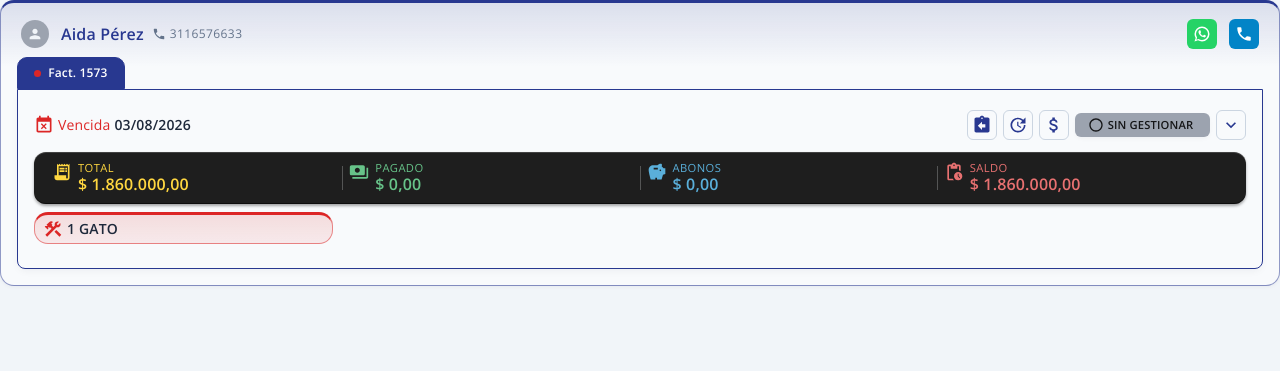
Test case: ClienteSeguimientoCard — lo que muestra › no muestra los equipos que todavía están en plazo
The image size is (1280, 371).
Click the button named "Mostrar factura": (1231,125) [1216, 110, 1246, 140]
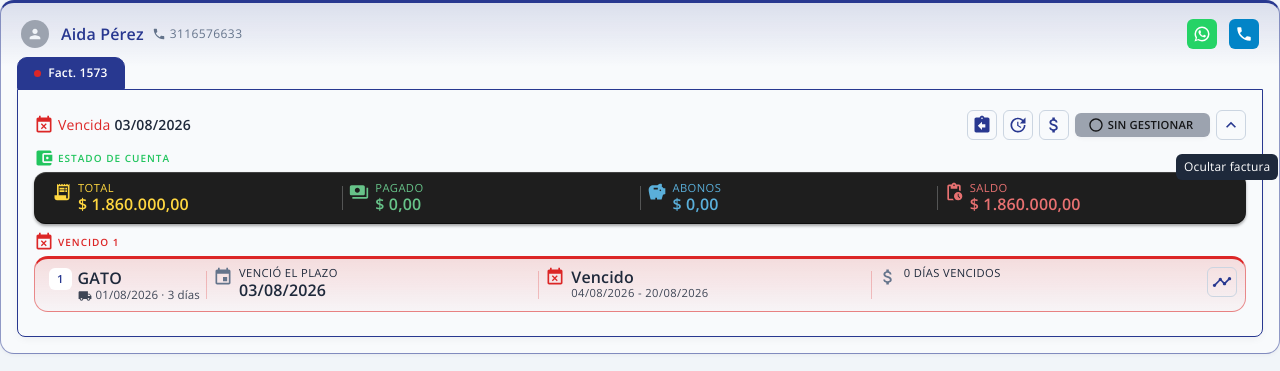
Expected: the text "GATO 01/08/2026 · 3 días" is shown, [78, 268, 200, 303]
